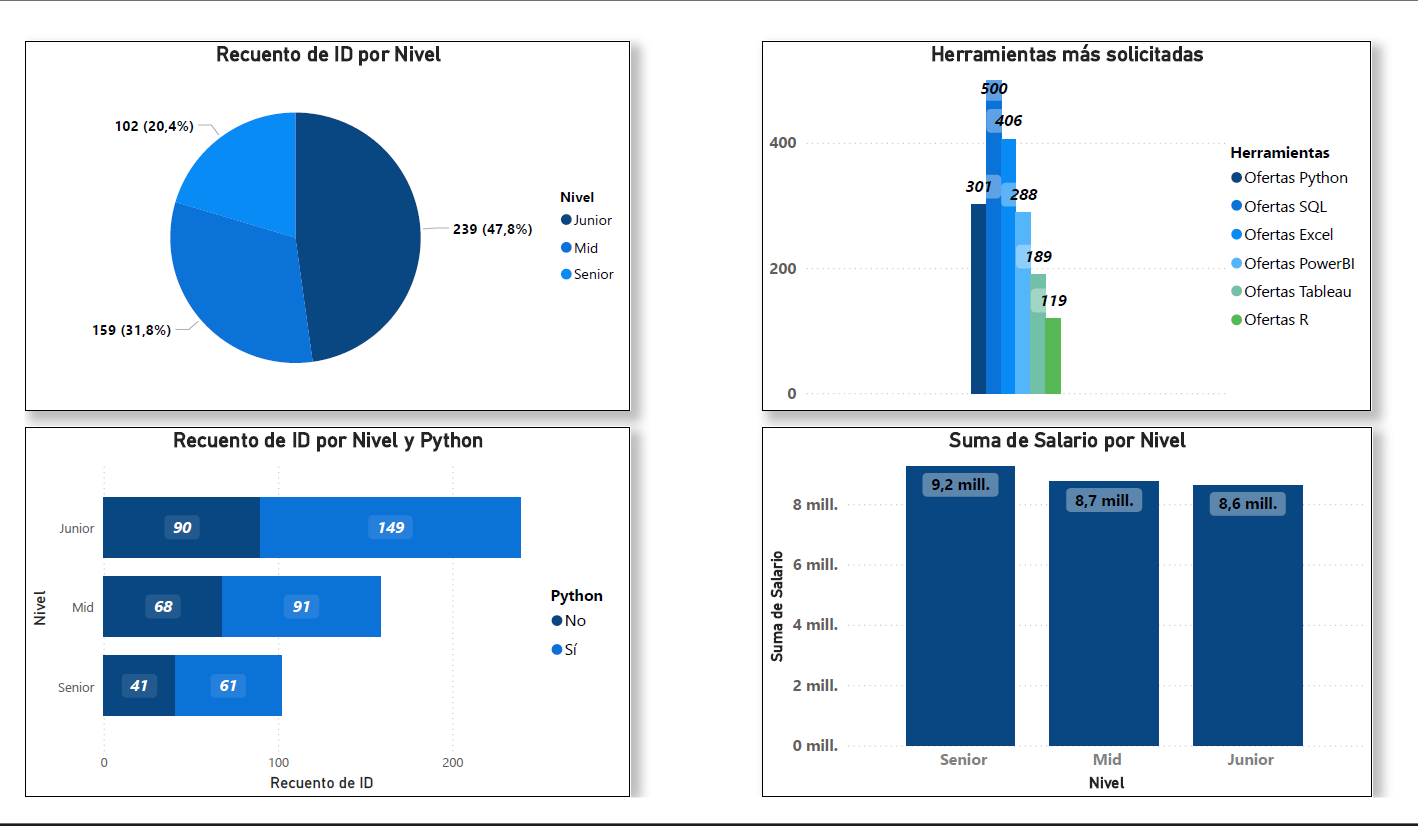

The page's visual inventory and layout, read from the dashboard file:
{"tool":"powerbi","page":{"name":"EDA","canvas":[1280,720],"ordinal":0},"visuals":[{"type":"pieChart","fields":{"Category":["dataset_analisis_mercado_analistas_datos_500_registros.Nivel"],"Y":["CountNonNull(dataset_analisis_mercado_analistas_datos_500_registros.ID)"]},"box":[0,13.2,566.3,346.1],"z":0},{"type":"clusteredColumnChart","title":"Herramientas más solicitadas","fields":{"Y":["analisis_mercado.Ofertas Python","analisis_mercado.Ofertas SQL","analisis_mercado.Ofertas Excel","analisis_mercado.Ofertas PowerBI","analisis_mercado.Ofertas Tableau","analisis_mercado.Ofertas R"]},"box":[688.8,13.2,569.6,346.1],"z":1000},{"type":"barChart","fields":{"Category":["analisis_mercado.Nivel"],"Series":["analisis_mercado.Python"],"Y":["CountNonNull(analisis_mercado.ID)"]},"box":[0,374.2,566.3,346.1],"z":2000},{"type":"columnChart","fields":{"Category":["analisis_mercado.Nivel"],"Y":["Sum(analisis_mercado.Salario)"]},"box":[689,374,570,346],"z":3000}]}

Visuals, with their boxes on the page's 1280x720 design canvas (x1, y1, x2, y2). These are canvas units, not pixel positions in the 1418x826 screenshot, which may show the page scaled, cropped or inside an application window:
pieChart - dataset_analisis_mercado_analistas_datos_500_registros.Nivel x CountNonNull(dataset_analisis_mercado_analistas_datos_500_registros.ID): {"x1": 0, "y1": 13, "x2": 566, "y2": 359}
"Herramientas más solicitadas" clusteredColumnChart: {"x1": 689, "y1": 13, "x2": 1258, "y2": 359}
barChart - analisis_mercado.Nivel x analisis_mercado.Python: {"x1": 0, "y1": 374, "x2": 566, "y2": 720}
columnChart - analisis_mercado.Nivel x Sum(analisis_mercado.Salario): {"x1": 689, "y1": 374, "x2": 1259, "y2": 720}
